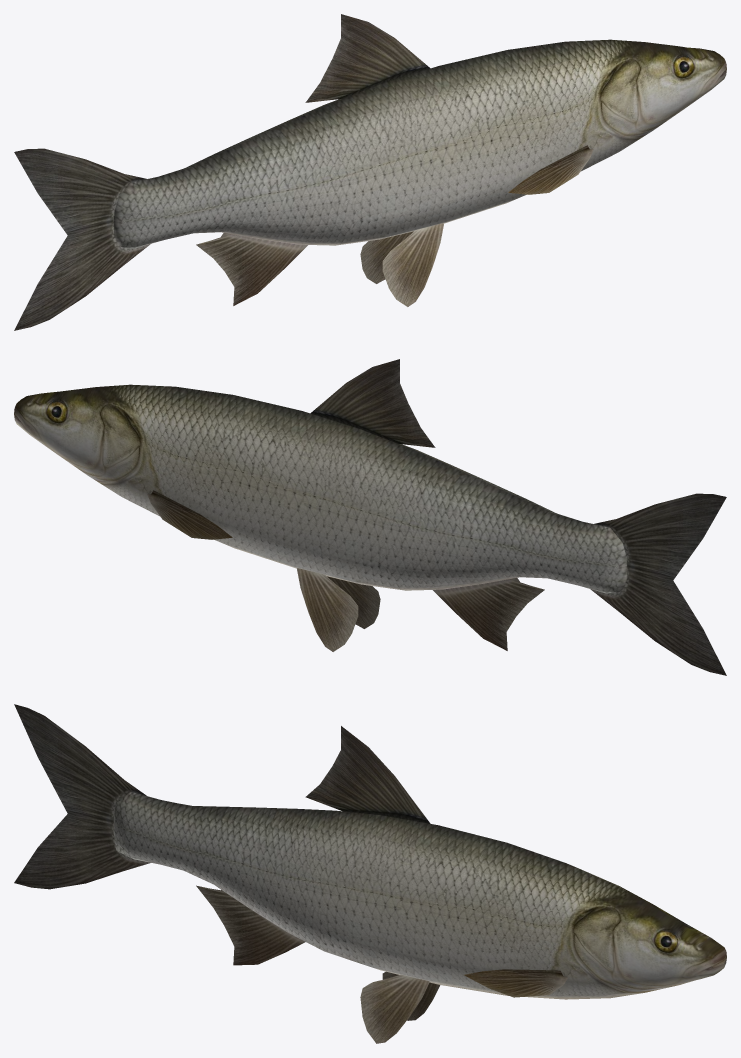
The model's file is Asp.glb.
3 renders of one model, top to bottom at view 1: azimuth 30°, elevation 25°; view 2: azimuth 150°, elevation 25°; view 3: azimuth 330°, elevation 25°, orthographic.
Parts seen in each view (by area): view 1: Asp; view 2: Asp; view 3: Asp.
Part boxes in pixels (left/top/right/bottom): Asp: left=14, top=14, right=726, bottom=330; Asp: left=14, top=359, right=726, bottom=675; Asp: left=14, top=704, right=726, bottom=1043.
Size of the model in its own units: 2 by 0.7916 by 0.2171.
Materials: 1 (1 with a texture image).
